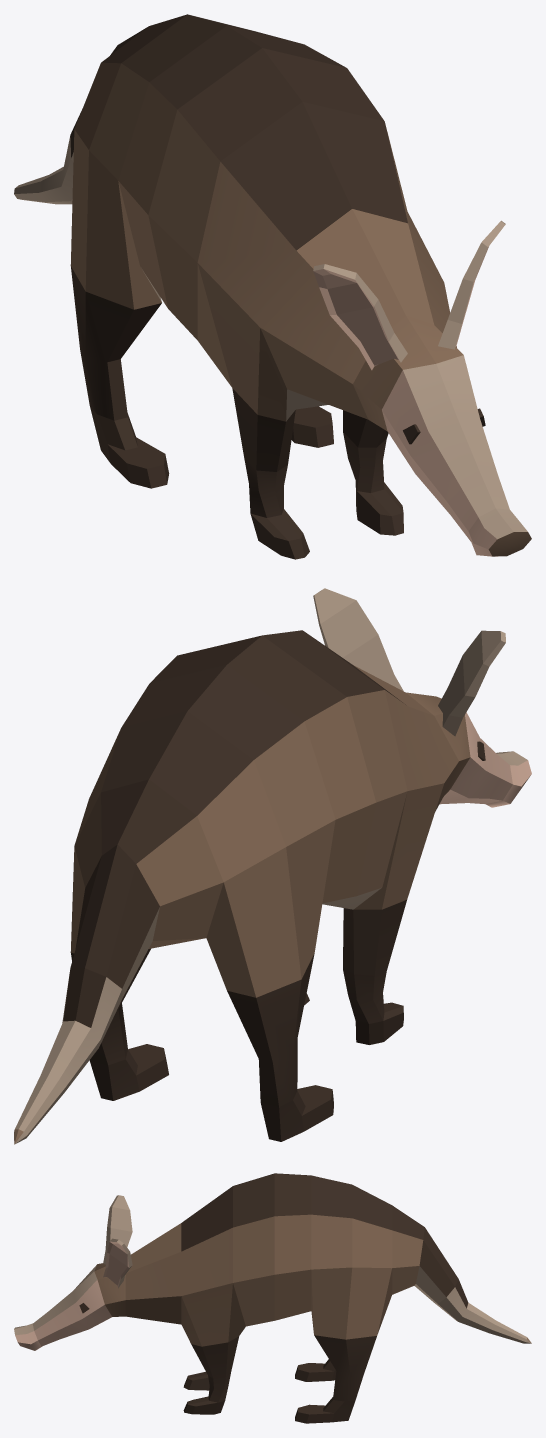
File: Mesh_Aardvark.obj
3 renders of one model, top to bottom at view 1: azimuth 30°, elevation 25°; view 2: azimuth 150°, elevation 25°; view 3: azimuth 270°, elevation 25°, orthographic. The views are drawn at different scales.
Visible parts, largest first — view 1: Geo_Aardvark; view 2: Geo_Aardvark; view 3: Geo_Aardvark.
Part boxes in pixels (x1,y1,x2,y2): Geo_Aardvark: (14,14,531,559); Geo_Aardvark: (14,588,531,1144); Geo_Aardvark: (14,1173,531,1423).
Size of the model in its own units: 41.73 by 75.99 by 158.
Materials: 1 (1 with a texture image).
